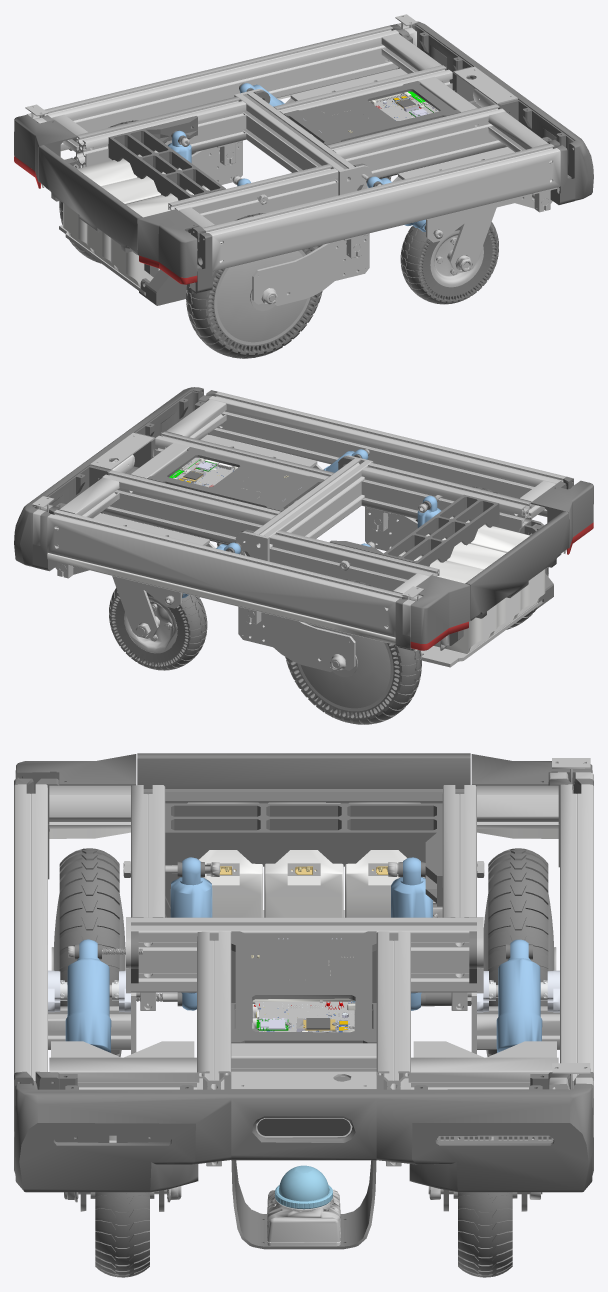
The model's file is ugokuita-neo.glb.
3 views of the same model, one above another, from view 1: azimuth 30°, elevation 25°; view 2: azimuth 150°, elevation 25°; view 3: azimuth 270°, elevation 25° (orthographic). The views are drawn at different scales.
Parts seen in each view (by area): view 1: body, wheel-rear-right, wheel-front-right; view 2: body, wheel-rear-left, wheel-front-left; view 3: body, wheel-rear-left, wheel-rear-right, wheel-front-right, wheel-front-left.
Boxes of the visible parts, bbox=[...] form: body: bbox=[14, 14, 593, 305]; wheel-rear-right: bbox=[186, 213, 322, 358]; wheel-front-right: bbox=[400, 222, 498, 304]; body: bbox=[14, 387, 593, 671]; wheel-rear-left: bbox=[285, 579, 421, 724]; wheel-front-left: bbox=[109, 588, 207, 670]; body: bbox=[14, 753, 593, 1249]; wheel-rear-left: bbox=[483, 848, 556, 1056]; wheel-rear-right: bbox=[51, 848, 125, 1056]; wheel-front-right: bbox=[90, 1192, 154, 1277]; wheel-front-left: bbox=[458, 1192, 512, 1277].
Size of the model in its own units: 0.7279 by 0.2669 by 0.51.
